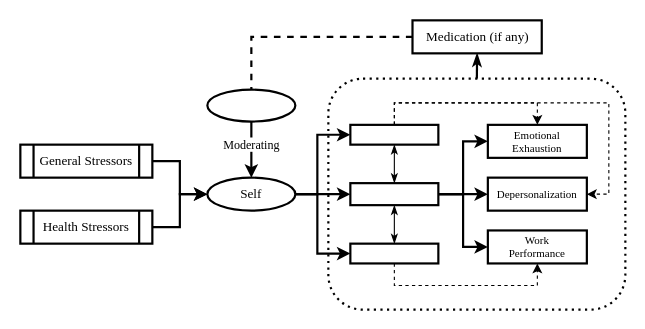
Some shapes in this 645 by 329 pixel diagram are drawn without their labels. The shapes that lost their labels are listed below. From the top down, each one's box as (x1, y1, x2, y2) in pixels, then its label:
(206, 88, 296, 122): Resilience
(349, 123, 439, 145): Depression
(349, 182, 439, 206): Burnout
(349, 242, 439, 264): Anxiety
